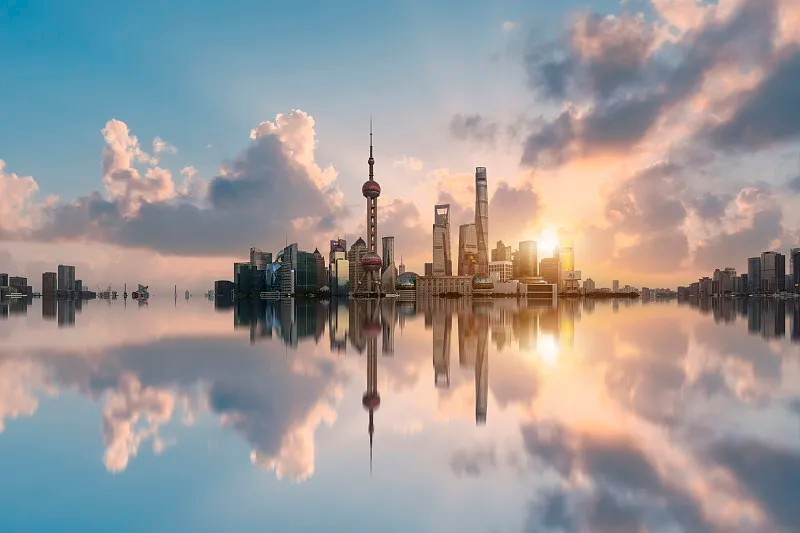Oriental: (353, 114, 385, 294)
